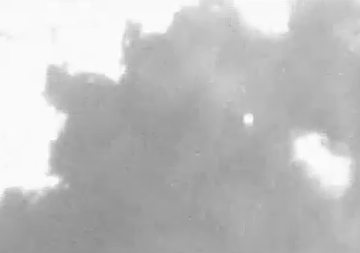Target: (243, 114, 253, 125)
